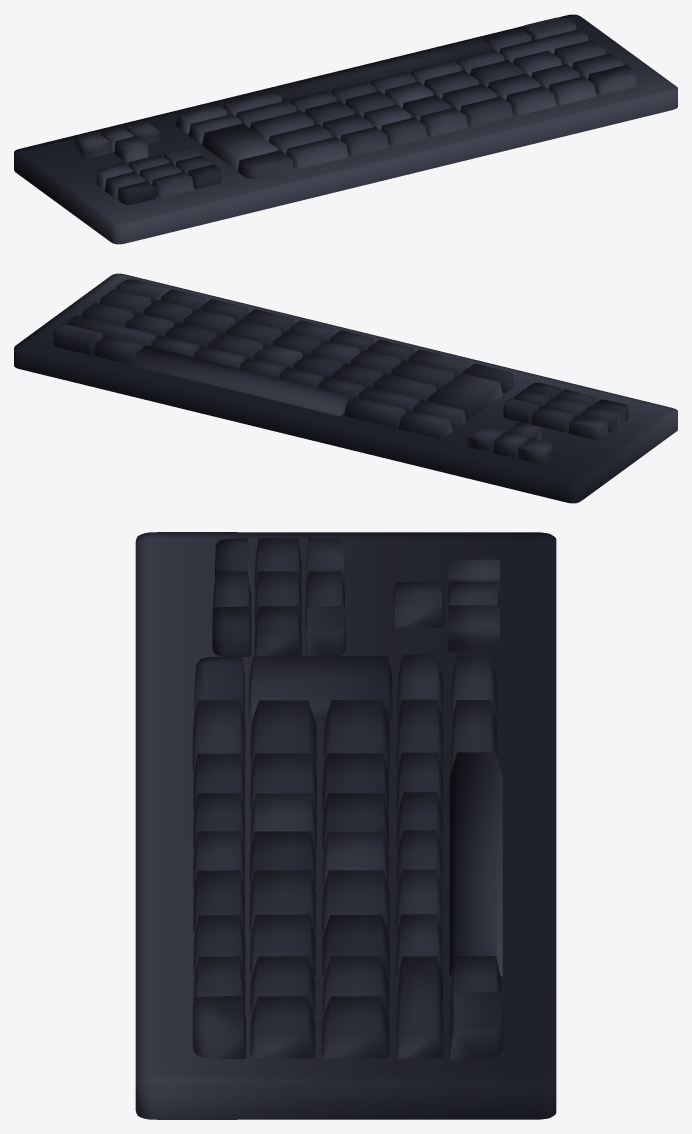
The model's file is mesh_keyboard_LOD1.fbx.
3 views of the same model, one above another, from view 1: azimuth 30°, elevation 25°; view 2: azimuth 150°, elevation 25°; view 3: azimuth 270°, elevation 25° (orthographic). The views are drawn at different scales.
Parts seen in each view (by area): view 1: keyboard_LOD1; view 2: keyboard_LOD1; view 3: keyboard_LOD1.
Boxes of the visible parts, x1,y1,x2,y2 form: keyboard_LOD1: (14, 14, 677, 244); keyboard_LOD1: (14, 273, 677, 503); keyboard_LOD1: (135, 532, 556, 1119).
Size of the model in its own units: 112 by 6.04 by 36.24.
